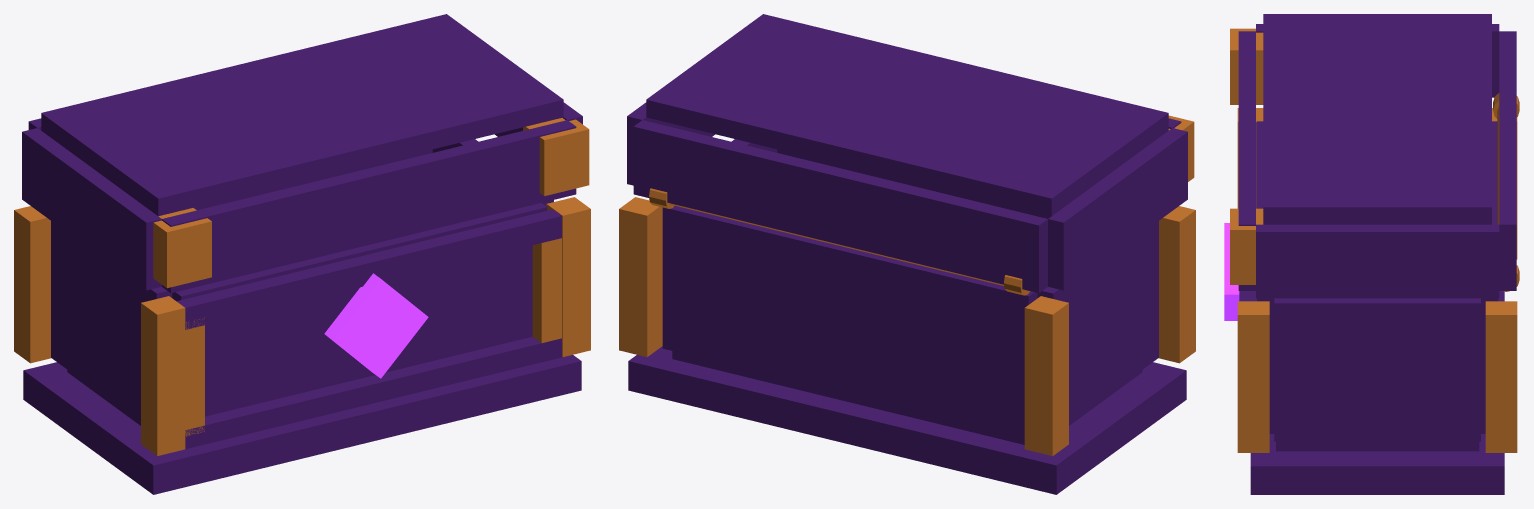
Rendered from BF_Chest_lod2.glb.
The picture shows the model from 3 angles, left to right: view 1: azimuth 30°, elevation 25°; view 2: azimuth 150°, elevation 25°; view 3: azimuth 270°, elevation 25°; orthographic projection. The views are drawn at different scales.
Parts seen in each view (by area): view 1: BF_L2_BF_Chest_LidTop, BF_L2_BF_Chest_BodyFront, BF_L2_BF_Chest_LidFront, BF_L2_BF_Chest_Plinth, BF_L2_BF_Chest_BodySide_L, BF_L2_BF_Chest_FrontRail_Top, BF_L2_BF_Chest_LidSide_L, BF_L2_BF_Chest_FrontRail_Bottom, BF_L2_BF_Chest_Corner_L_F, BF_L2_BF_Chest_Latch, BF_L2_BF_Chest_Corner_L_B, BF_L2_BF_Chest_Corner_R_F (+5 smaller); view 2: BF_L2_BF_Chest_LidTop, BF_L2_BF_Chest_BodyRear, BF_L2_BF_Chest_LidRear, BF_L2_BF_Chest_Plinth, BF_L2_BF_Chest_BodySide_L, BF_L2_BF_Chest_LidSide_L, BF_L2_BF_Chest_Corner_L_B, BF_L2_BF_Chest_Corner_R_B, BF_L2_BF_Chest_Corner_L_F, BF_L2_BF_Chest_BodyFloor, BF_L2_BF_Chest_BodyFront, BF_L2_BF_Chest_LidSide_R (+1 smaller); view 3: BF_L2_BF_Chest_LidTop, BF_L2_BF_Chest_BodySide_R, BF_L2_BF_Chest_LidSide_R, BF_L2_BF_Chest_Plinth, BF_L2_BF_Chest_Corner_R_B, BF_L2_BF_Chest_Corner_R_F, BF_L2_BF_Chest_LidRear, BF_L2_BF_Chest_LidFront, BF_L2_BF_Chest_BodyFloor, BF_L2_BF_Chest_LidCorner_R, BF_L2_BF_Chest_BodyFront, BF_L2_BF_Chest_BodyRear (+5 smaller).
Part boxes in pixels (box(x1,y1,x2,y2)): BF_L2_BF_Chest_LidTop: box(41, 14, 563, 216); BF_L2_BF_Chest_BodyFront: box(172, 203, 547, 416); BF_L2_BF_Chest_LidFront: box(162, 120, 576, 293); BF_L2_BF_Chest_Plinth: box(23, 355, 581, 494); BF_L2_BF_Chest_BodySide_L: box(51, 221, 172, 423); BF_L2_BF_Chest_FrontRail_Top: box(177, 209, 561, 329); BF_L2_BF_Chest_LidSide_L: box(22, 128, 161, 290); BF_L2_BF_Chest_FrontRail_Bottom: box(185, 337, 562, 449); BF_L2_BF_Chest_Corner_L_F: box(141, 296, 185, 455); BF_L2_BF_Chest_Latch: box(324, 273, 428, 378); BF_L2_BF_Chest_Corner_L_B: box(14, 206, 51, 363); BF_L2_BF_Chest_Corner_R_F: box(546, 197, 590, 356); BF_L2_BF_Chest_LidTop: box(646, 14, 1168, 216); BF_L2_BF_Chest_BodyRear: box(662, 206, 1037, 436); BF_L2_BF_Chest_LidRear: box(633, 120, 1047, 293); BF_L2_BF_Chest_Plinth: box(628, 346, 1186, 494); BF_L2_BF_Chest_BodySide_L: box(1037, 221, 1158, 423); BF_L2_BF_Chest_LidSide_L: box(1048, 128, 1187, 290); BF_L2_BF_Chest_Corner_L_B: box(1024, 296, 1068, 455); BF_L2_BF_Chest_Corner_R_B: box(619, 197, 662, 356); BF_L2_BF_Chest_Corner_L_F: box(1158, 206, 1195, 363); BF_L2_BF_Chest_BodyFloor: box(672, 351, 1142, 444); BF_L2_BF_Chest_BodyFront: box(777, 149, 1051, 218); BF_L2_BF_Chest_LidSide_R: box(627, 102, 714, 185); BF_L2_BF_Chest_LidTop: box(1263, 14, 1491, 224); BF_L2_BF_Chest_BodySide_R: box(1274, 298, 1480, 441); BF_L2_BF_Chest_LidSide_R: box(1256, 224, 1499, 298); BF_L2_BF_Chest_Plinth: box(1250, 291, 1504, 494); BF_L2_BF_Chest_Corner_R_B: box(1485, 301, 1517, 452); BF_L2_BF_Chest_Corner_R_F: box(1237, 301, 1269, 452); BF_L2_BF_Chest_LidRear: box(1499, 31, 1516, 290); BF_L2_BF_Chest_LidFront: box(1238, 31, 1255, 290); BF_L2_BF_Chest_BodyFloor: box(1276, 441, 1479, 451); BF_L2_BF_Chest_LidCorner_R: box(1230, 208, 1263, 284); BF_L2_BF_Chest_BodyFront: box(1257, 121, 1274, 433); BF_L2_BF_Chest_BodyRear: box(1481, 121, 1498, 433).
Bounding box in the file's own units: 1.55 × 0.98 × 0.9295.
